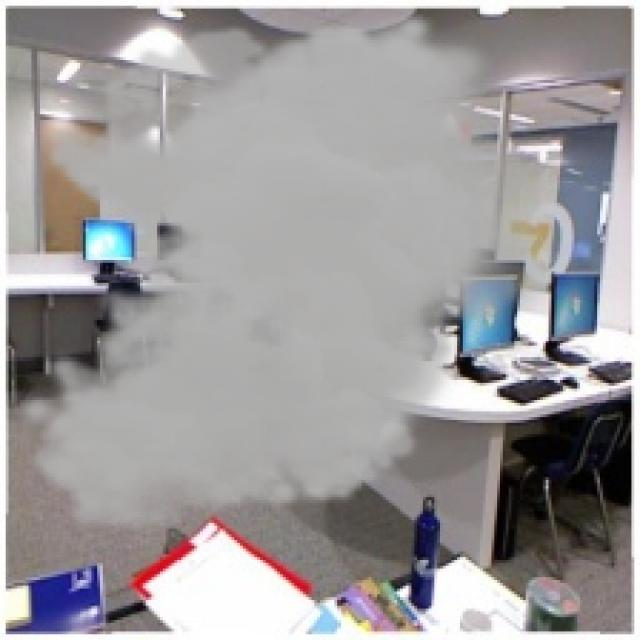smoke: (11, 9, 560, 534)
